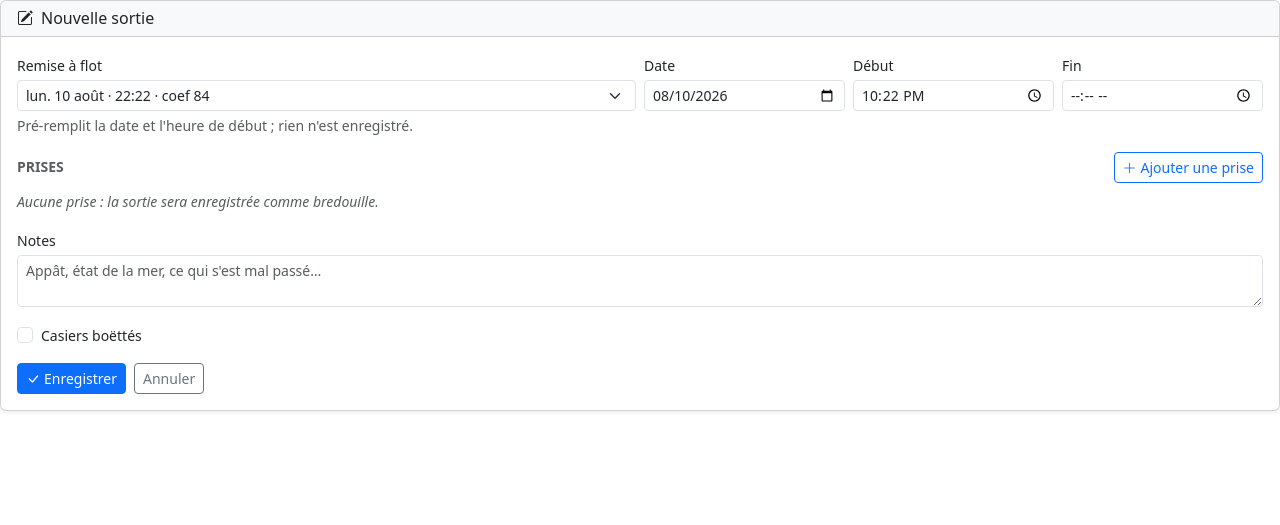
Test: FishingTripForm › ajoute et retire des lignes de prise
This screenshot has width=1280, height=525.
What coordinates should you click on to do the following:
click the button with test id "add-catch"
I would click on:
 (1188, 168)
Its box is [1114,152,1263,183].
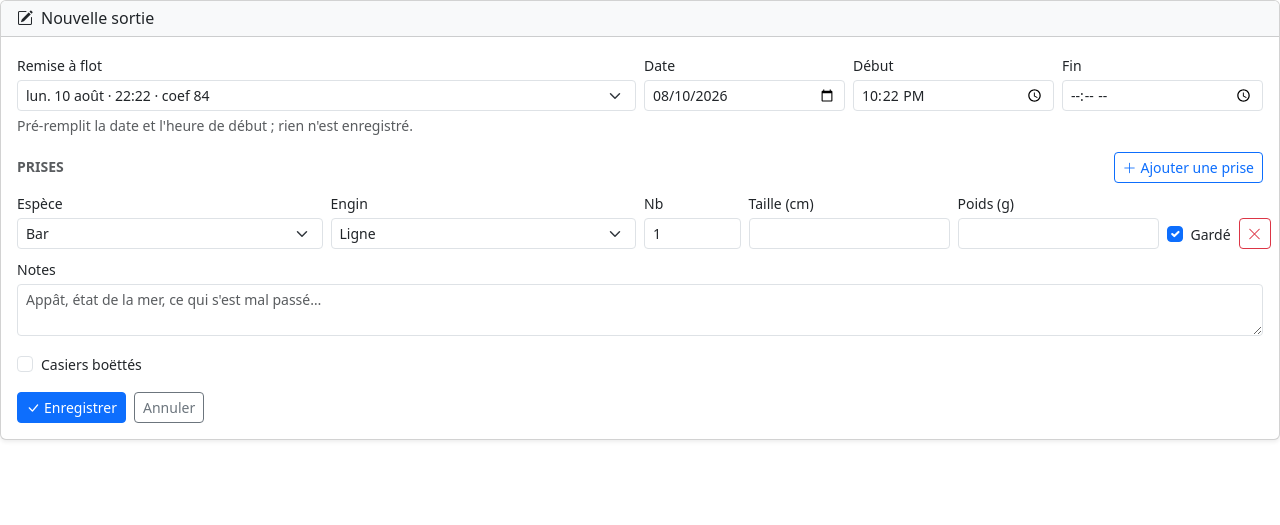
What coordinates should you click on to do the following:
click the button with test id "add-catch"
I would click on:
 (1188, 168)
Its box is [1114,152,1263,183].
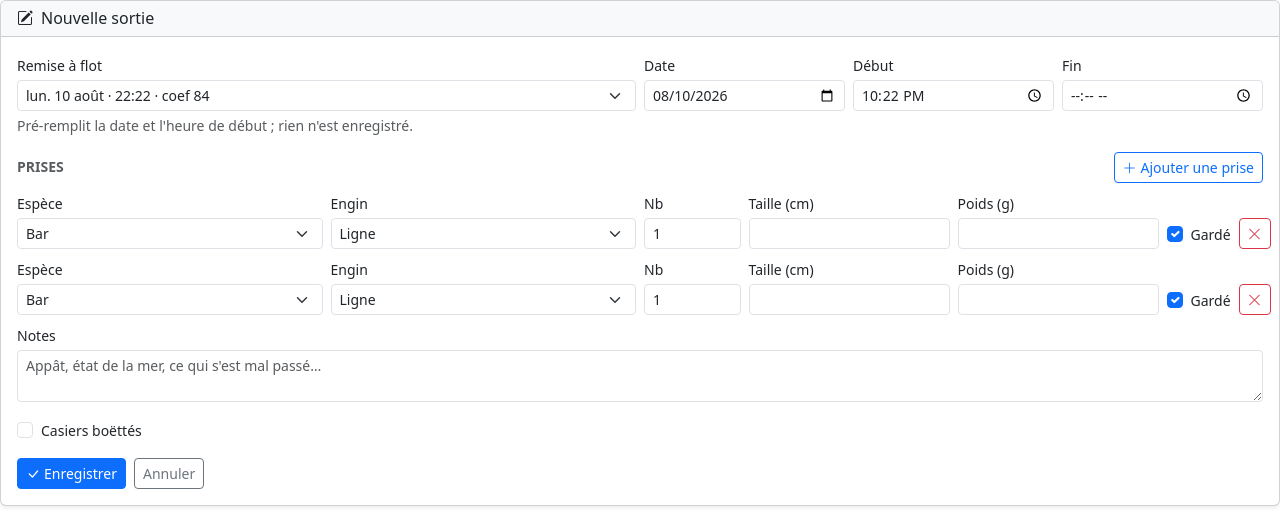
Check: the number of elements with test id "catch-row" is 2, box [13,183,1267,249]; [13,249,1267,315]
What coordinates should you click on to do the following:
click the 1st button with test id "remove-catch"
I would click on:
 (1255, 234)
Its box is [1239,218,1271,249].
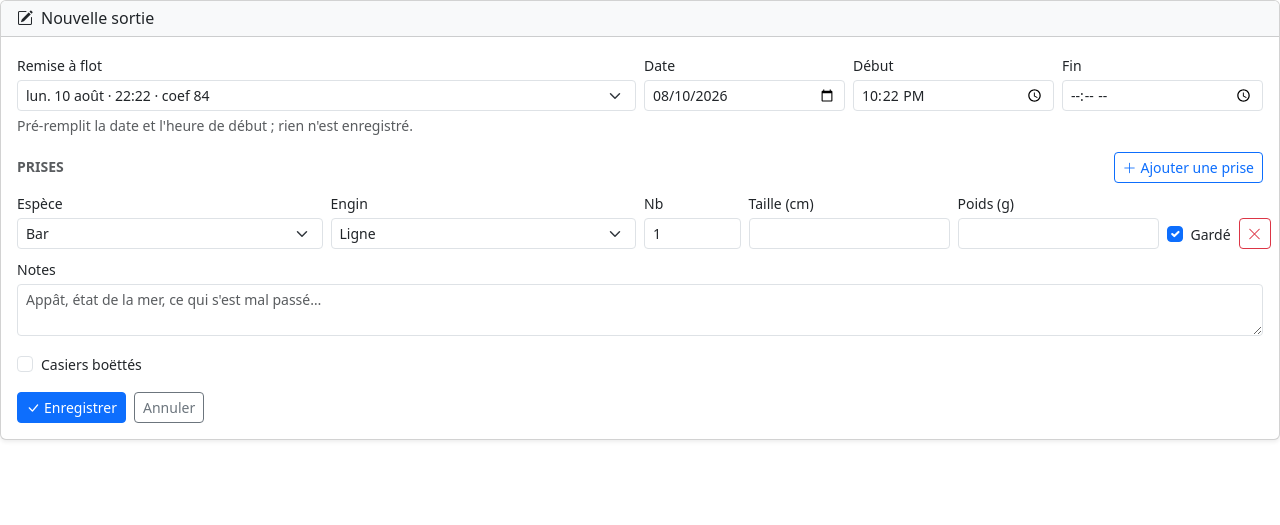
Check: the number of elements with test id "catch-row" is 1, box [13,183,1267,249]
